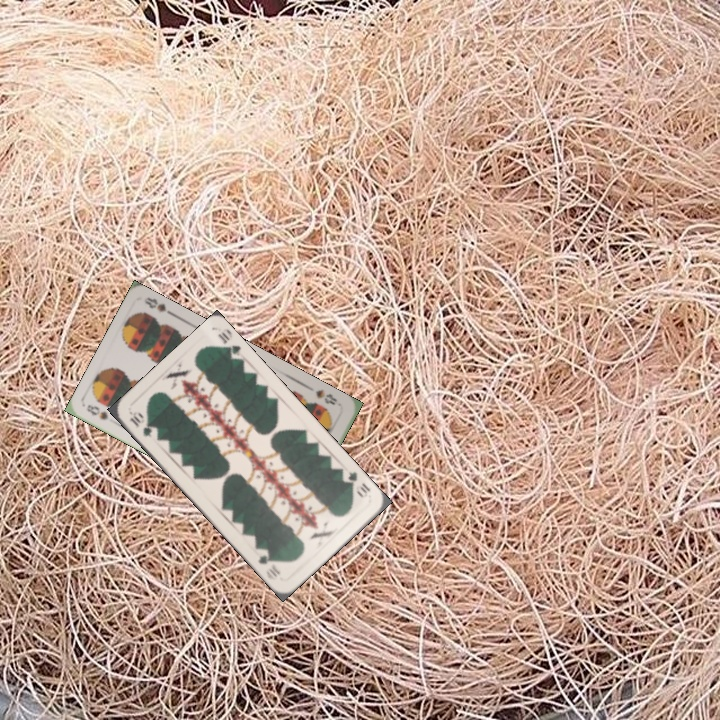G10: (341, 467, 373, 500), (126, 407, 155, 441)
S8: (311, 385, 340, 408), (82, 400, 111, 422)
